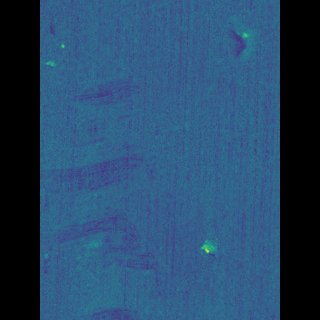Loch: (75, 65, 166, 320)
